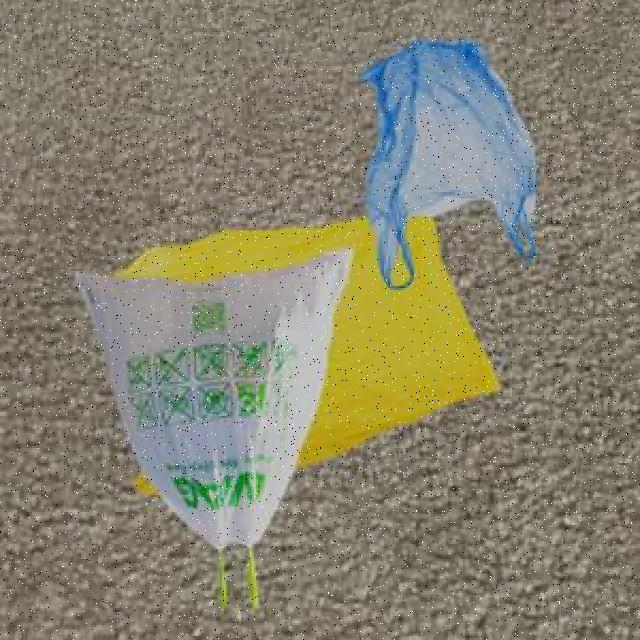plastic_bag: (78, 250, 348, 544)
